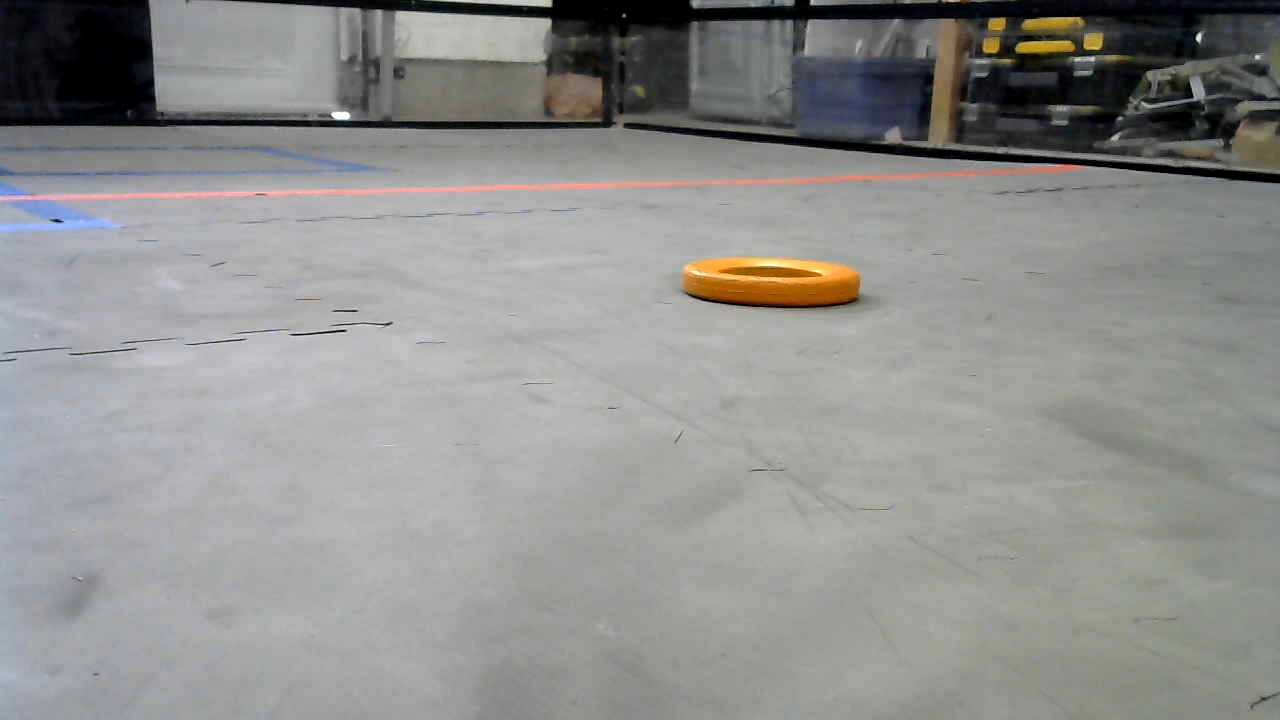OneStack: (685, 257, 861, 305)
